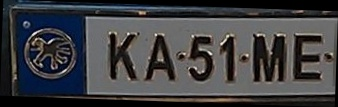character: (249, 31, 289, 83), (142, 32, 177, 83), (107, 30, 138, 83), (292, 31, 324, 81), (187, 33, 215, 82), (217, 33, 238, 84)
